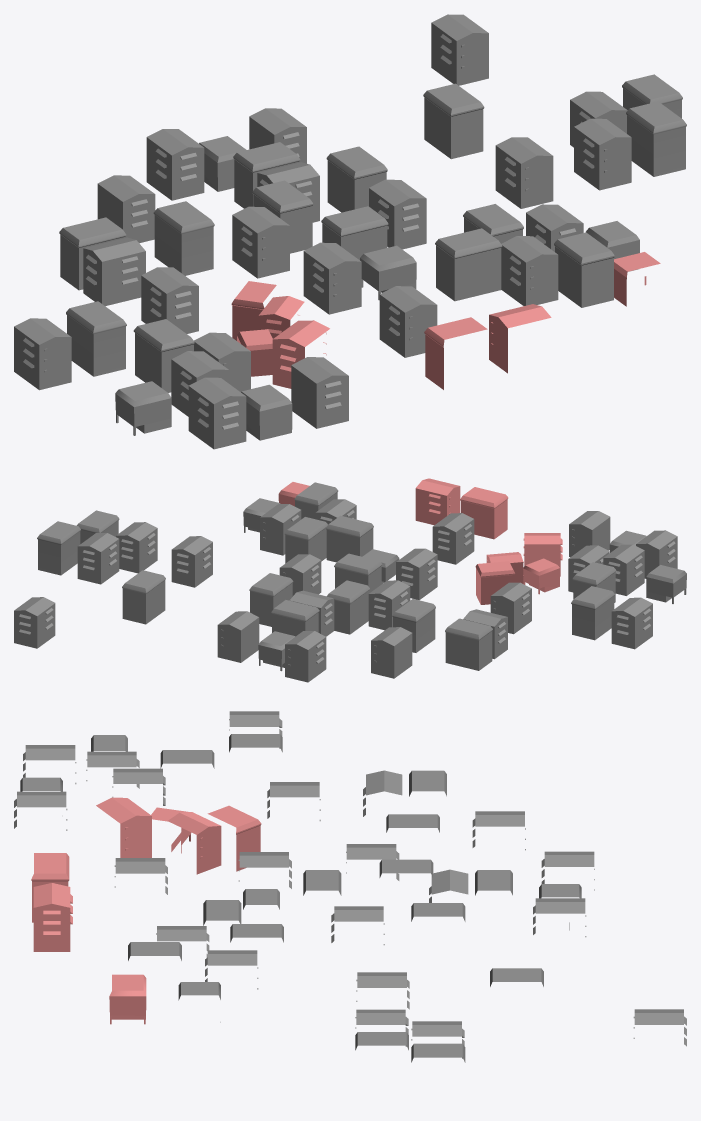
The model's file is SM_ENV_KNVLLG03_House_Distance_B.gltf.
3 views of the same model, one above another, from view 1: azimuth 30°, elevation 25°; view 2: azimuth 150°, elevation 25°; view 3: azimuth 270°, elevation 25° (orthographic). The views are drawn at different scales.
Visible parts, largest first — view 1: SM_ENV_KNVLLG03_House_Distance_B; view 2: SM_ENV_KNVLLG03_House_Distance_B; view 3: SM_ENV_KNVLLG03_House_Distance_B.
Boxes of the visible parts, x1=… form: SM_ENV_KNVLLG03_House_Distance_B: x1=14, y1=14, x2=686, y2=449; SM_ENV_KNVLLG03_House_Distance_B: x1=14, y1=478, x2=686, y2=682; SM_ENV_KNVLLG03_House_Distance_B: x1=14, y1=711, x2=686, y2=1062.
Bounding box in the file's own units: 336 × 21.73 × 271.
